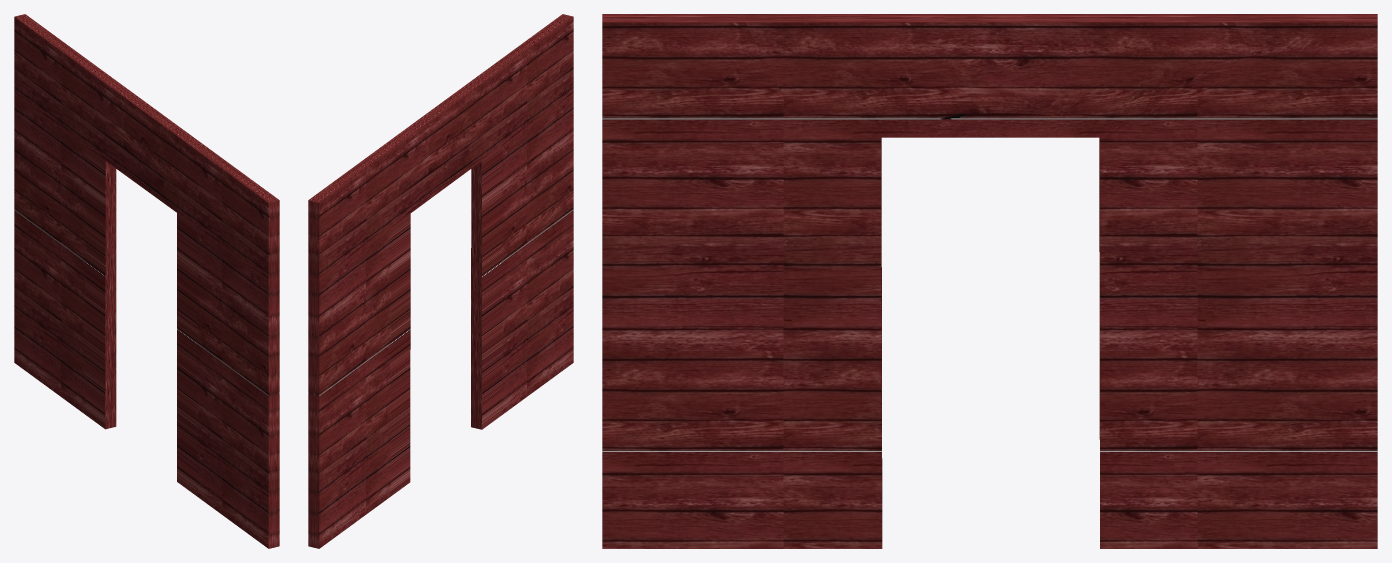
The model's file is BarnDoor1.fbx.
3 renders of one model, left to right at view 1: azimuth 30°, elevation 25°; view 2: azimuth 150°, elevation 25°; view 3: azimuth 270°, elevation 25°, orthographic. The views are drawn at different scales.
Visible parts, largest first — view 1: Cube; view 2: Cube; view 3: Cube.
Part boxes in pixels (x1,y1,x2,y2): Cube: [14, 14, 279, 548]; Cube: [308, 14, 573, 548]; Cube: [602, 14, 1377, 548].
Size of the model in its own units: 20 by 600 by 800.
1 material, 1 textured.
